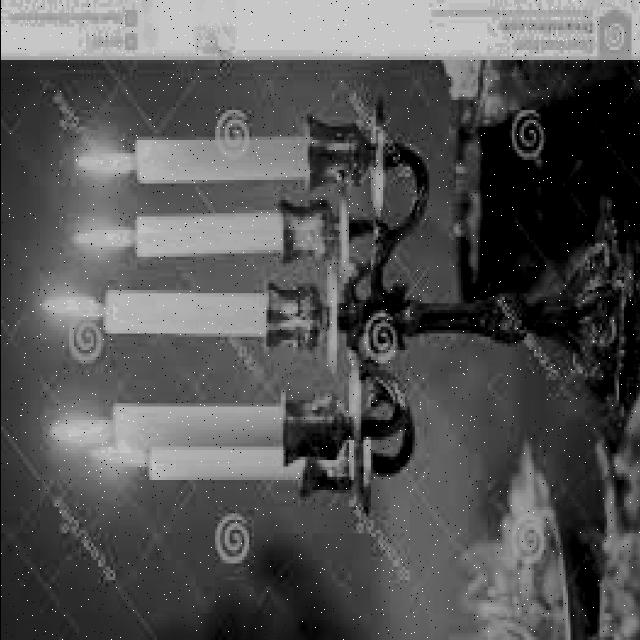api: (79, 434, 155, 481), (45, 411, 111, 465), (69, 215, 142, 261), (77, 141, 143, 191), (35, 292, 108, 328)
